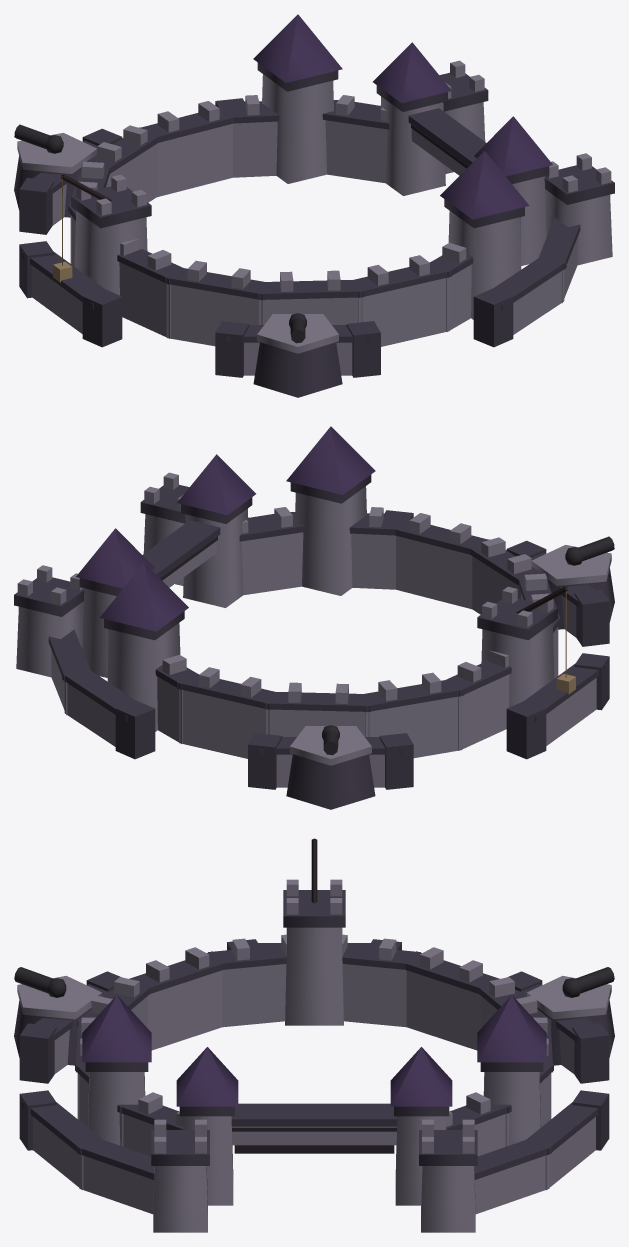
File: base_builder_walls_3.glb
The picture shows the model from 3 angles, top to bottom: view 1: azimuth 30°, elevation 25°; view 2: azimuth 150°, elevation 25°; view 3: azimuth 270°, elevation 25°; orthographic projection. The views are drawn at different scales.
Visible parts, largest first — view 1: tower_60_body, wall_9, wall_2, wall_7, tower_300_body, bastion_240, gate_tower_n_body, tower_180_body, wall_0, tower_60_roof, tower_300_roof, barbican_s_body (+44 smaller); view 2: tower_300_body, wall_2, wall_9, wall_4, tower_60_body, bastion_120, gate_tower_s_body, tower_180_body, wall_11, tower_300_roof, tower_60_roof, barbican_n_body (+44 smaller); view 3: tower_180_body, wall_4, wall_7, gate_arch_cap, wall_5, wall_6, barbican_n_body, barbican_s_body, tower_60_roof, tower_300_roof, tower_60_body, tower_300_body (+47 smaller).
Boxes of the visible parts, x1=… form: tower_60_body: x1=262, y1=74, x2=333, y2=183; wall_9: x1=358, y1=277, x2=449, y2=346; wall_2: x1=156, y1=124, x2=232, y2=197; wall_7: x1=166, y1=284, x2=263, y2=346; tower_300_body: x1=448, y1=211, x2=521, y2=319; bastion_240: x1=253, y1=342, x2=342, y2=397; gate_tower_n_body: x1=380, y1=96, x2=445, y2=195; tower_180_body: x1=74, y1=211, x2=147, y2=295; wall_0: x1=325, y1=120, x2=387, y2=183; tower_60_roof: x1=253, y1=14, x2=342, y2=82; tower_300_roof: x1=440, y1=151, x2=529, y2=219; barbican_s_body: x1=545, y1=189, x2=612, y2=265; tower_300_body: x1=295, y1=486, x2=366, y2=595; wall_2: x1=179, y1=689, x2=270, y2=758; wall_9: x1=396, y1=536, x2=472, y2=609; wall_4: x1=365, y1=696, x2=462, y2=758; tower_60_body: x1=107, y1=623, x2=180, y2=731; bastion_120: x1=286, y1=754, x2=375, y2=809; gate_tower_s_body: x1=183, y1=508, x2=248, y2=607; tower_180_body: x1=481, y1=623, x2=554, y2=707; wall_11: x1=241, y1=532, x2=303, y2=595; tower_300_roof: x1=286, y1=426, x2=375, y2=494; tower_60_roof: x1=99, y1=563, x2=188, y2=631; barbican_n_body: x1=16, y1=601, x2=83, y2=677; tower_180_body: x1=285, y1=927, x2=343, y2=1025; wall_4: x1=406, y1=970, x2=480, y2=1050; wall_7: x1=148, y1=970, x2=222, y2=1050; gate_arch_cap: x1=231, y1=1103, x2=397, y2=1126; wall_5: x1=342, y1=964, x2=406, y2=1027; wall_6: x1=222, y1=964, x2=286, y2=1027; barbican_n_body: x1=421, y1=1166, x2=475, y2=1232; barbican_s_body: x1=153, y1=1166, x2=207, y2=1232; tower_60_roof: x1=477, y1=995, x2=546, y2=1062; tower_300_roof: x1=82, y1=995, x2=151, y2=1062; tower_60_body: x1=483, y1=1072, x2=540, y2=1145; tower_300_body: x1=88, y1=1072, x2=145, y2=1145.
Size of the model in its own units: 1.19 by 0.3628 by 1.21.
